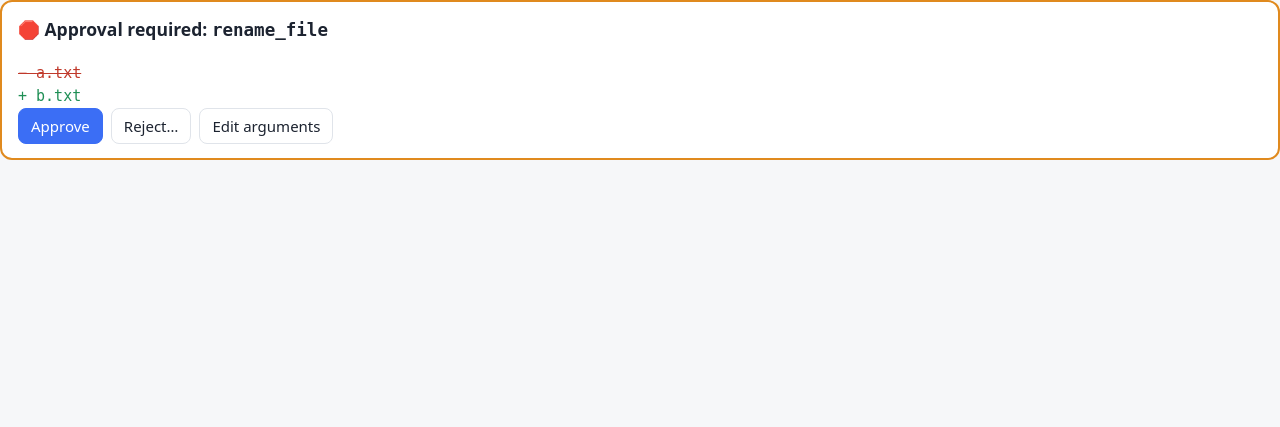
it: ApprovalCard › sends edited arguments and flags invalid JSON
Step 1. Click the button "Edit arguments" → (266, 126), box [199,108,334,144]
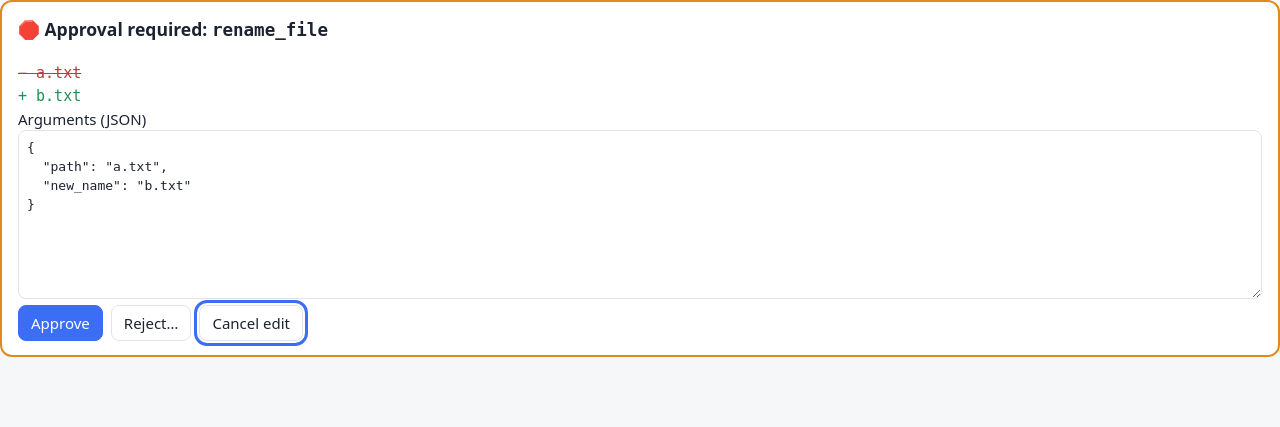
Step 2. Replace the text in the text box named "Edit arguments" with "not json" → (640, 215), box [18,130,1262,299]
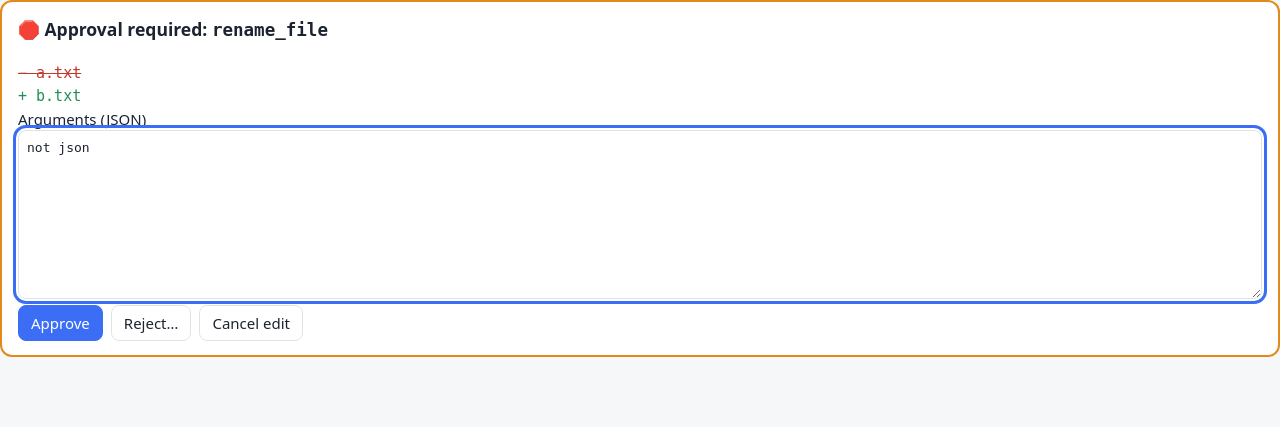
Step 3. Click the button "Approve" → (60, 323), box [18,305,103,341]
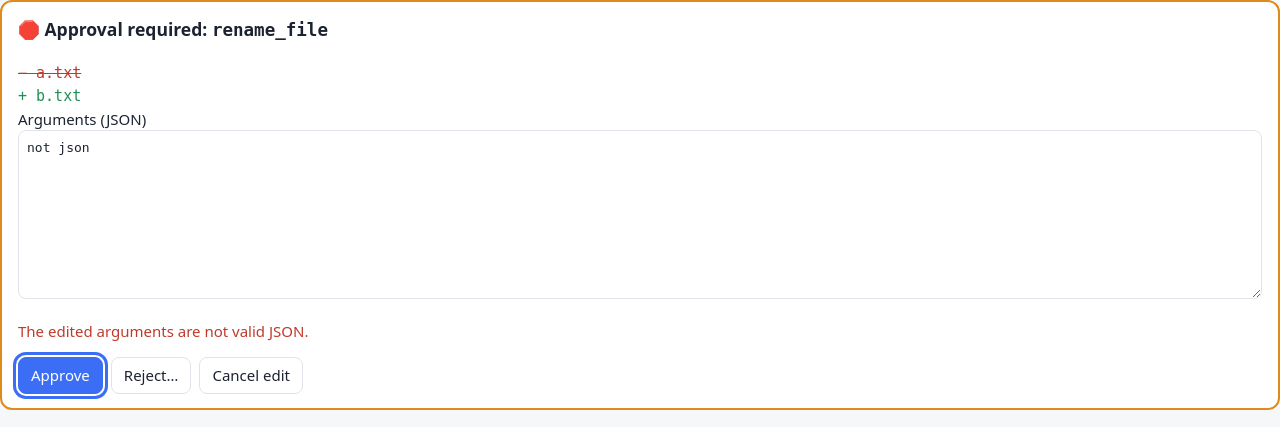
Now the message shows "not valid JSON", box [18,321,308,341]
